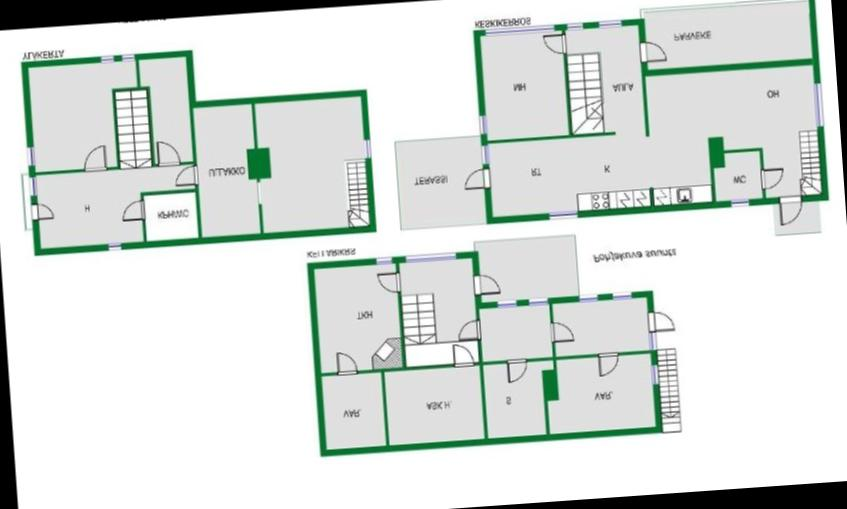door: (775, 194, 804, 228), (454, 314, 484, 344), (592, 349, 620, 379), (458, 165, 490, 190), (644, 308, 676, 333), (150, 138, 178, 166), (80, 143, 109, 170), (470, 272, 500, 298), (372, 270, 401, 296), (540, 30, 568, 56), (504, 357, 530, 384), (171, 161, 199, 186), (333, 349, 360, 374), (548, 319, 574, 344), (120, 196, 144, 223), (757, 166, 785, 189), (638, 40, 666, 63), (450, 341, 473, 365), (29, 201, 53, 222)
window: (478, 20, 558, 36), (400, 247, 460, 265), (808, 72, 825, 133), (544, 207, 580, 222), (605, 287, 636, 300), (23, 140, 36, 170), (475, 110, 490, 136), (523, 293, 549, 308), (360, 134, 373, 163), (490, 296, 521, 308), (648, 357, 660, 388), (102, 240, 128, 254), (724, 196, 750, 210), (592, 18, 626, 28), (371, 253, 395, 266), (26, 172, 38, 198), (562, 18, 586, 31), (572, 292, 599, 302), (114, 51, 137, 62), (478, 142, 488, 166), (96, 53, 118, 63), (648, 331, 657, 352)
